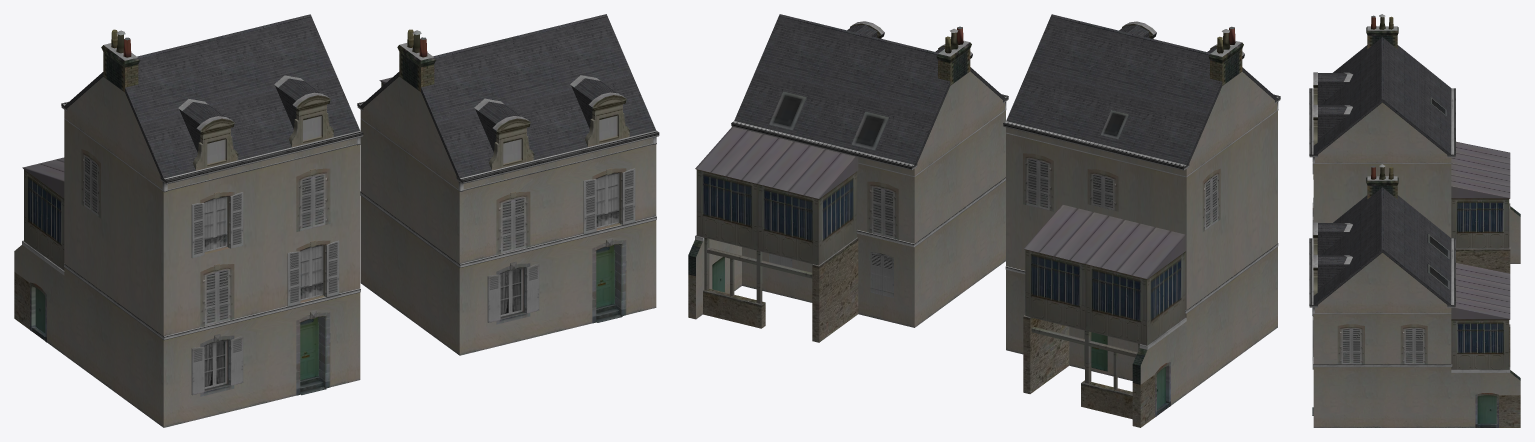
Rendered from sf-terrace-fr.glb.
3 renders of one model, left to right at view 1: azimuth 30°, elevation 25°; view 2: azimuth 150°, elevation 25°; view 3: azimuth 270°, elevation 25°, orthographic. The views are drawn at different scales.
Visible parts, largest first — view 1: House; view 2: House; view 3: House.
Part boxes in pixels (x1,y1,x2,y2): House: [14, 14, 659, 427]; House: [688, 14, 1280, 427]; House: [1309, 14, 1520, 427].
Size of the model in its own units: 18.68 by 13 by 9.99.
Materials: 1 (1 with a texture image).
